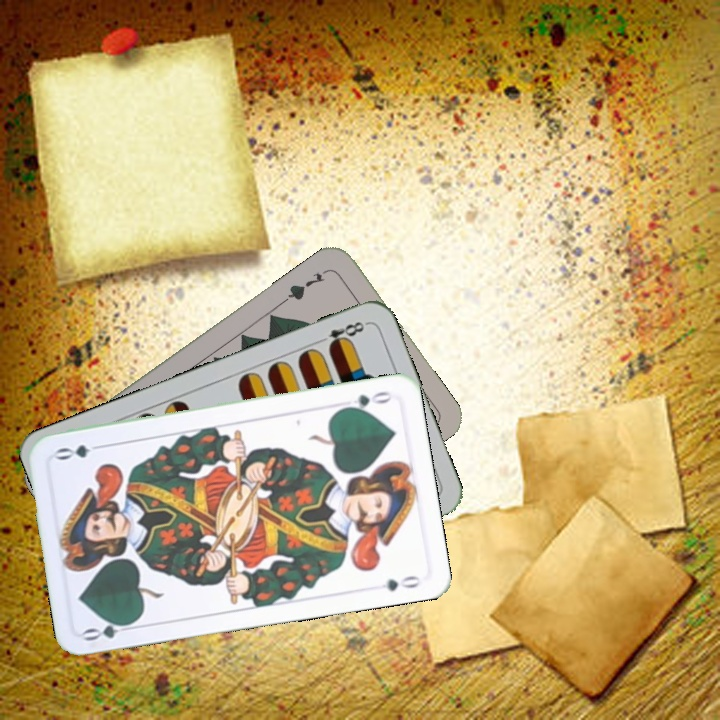E8: (313, 317, 370, 352)
G7: (280, 265, 332, 305)
GO: (80, 616, 139, 644), (337, 387, 395, 414)
